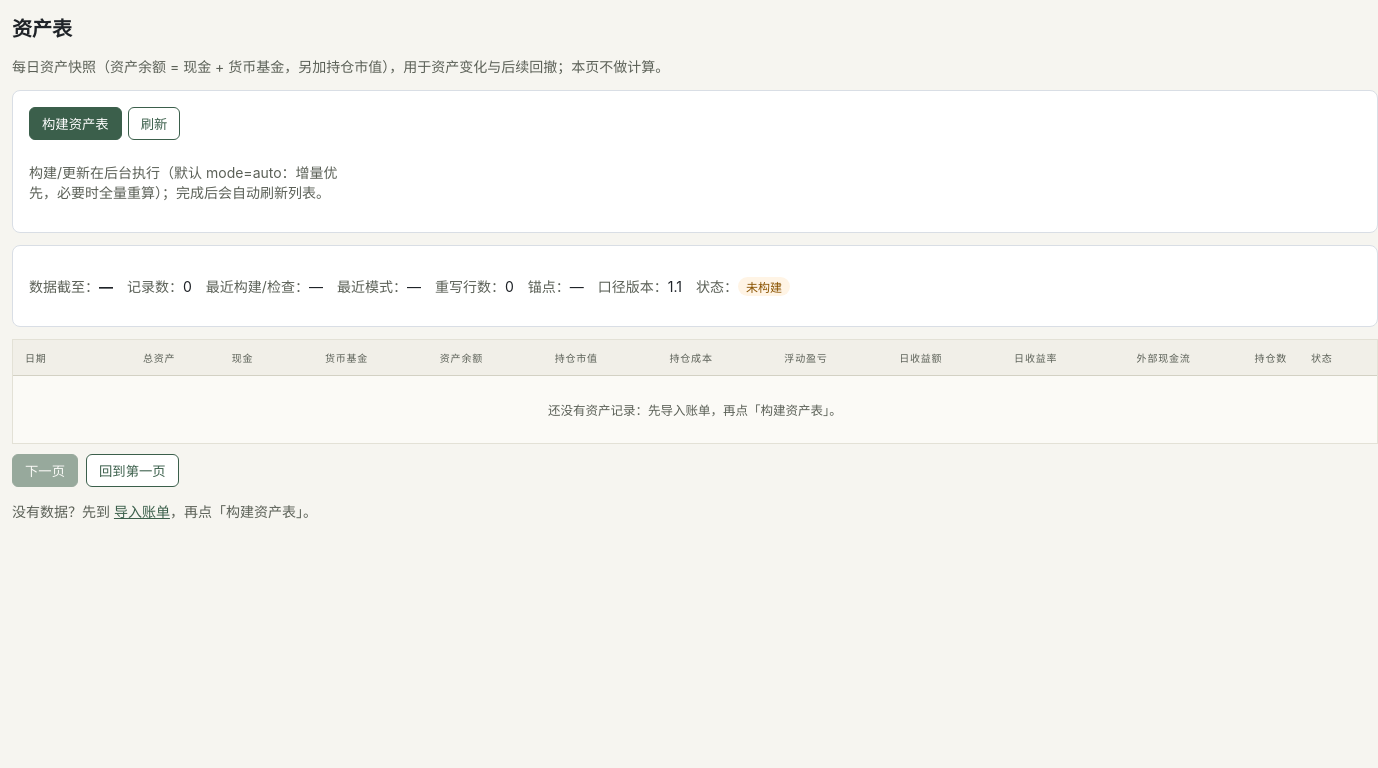
Test: Assets 资产表页 › FT-06 job failed：轮询到 failed 后展示 job 错误码
This screenshot has width=1378, height=768.
Click the button "构建资产表". click: (75,124)
box: x1=29 y1=107 x2=122 y2=140
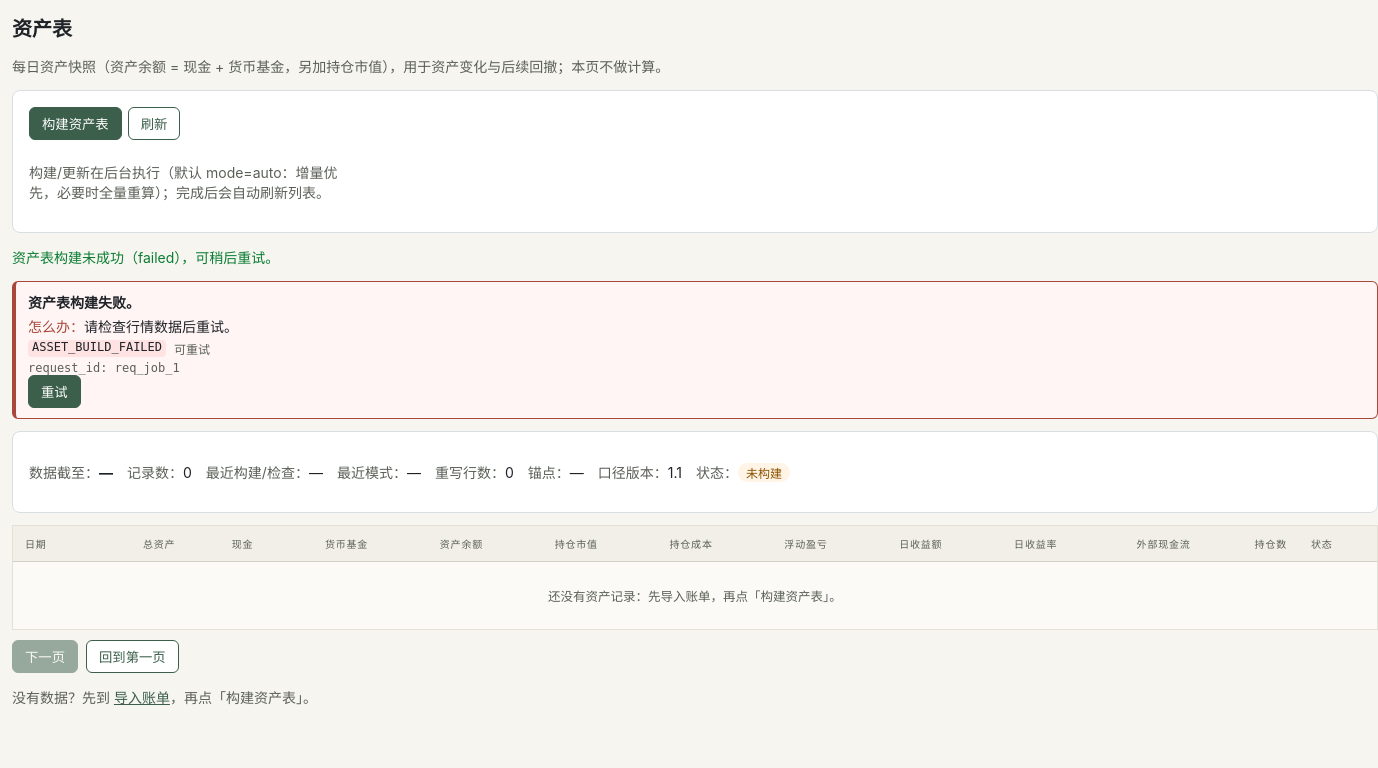
Expected: the text "资产表构建失败。" is shown, x1=28 y1=294 x2=140 y2=311
Expected: the text "ASSET_BUILD_FAILED" is shown, x1=28 y1=340 x2=166 y2=357
Expected: the text "资产表构建未成功（failed），可稍后重试。" is shown, x1=12 y1=249 x2=279 y2=266
